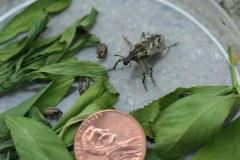weevils: (109, 12, 185, 97)
